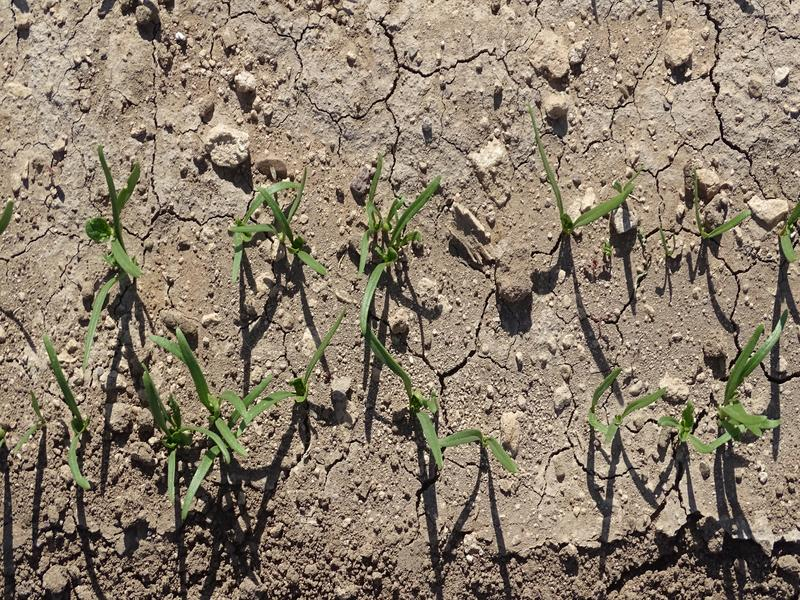Espinaca: (136, 327, 348, 510), (366, 339, 518, 473), (360, 177, 437, 330), (528, 107, 628, 219), (234, 177, 328, 282), (36, 346, 104, 482), (88, 165, 153, 275), (716, 328, 782, 435), (584, 363, 664, 448), (690, 180, 744, 241), (671, 409, 726, 457), (777, 206, 800, 261)
